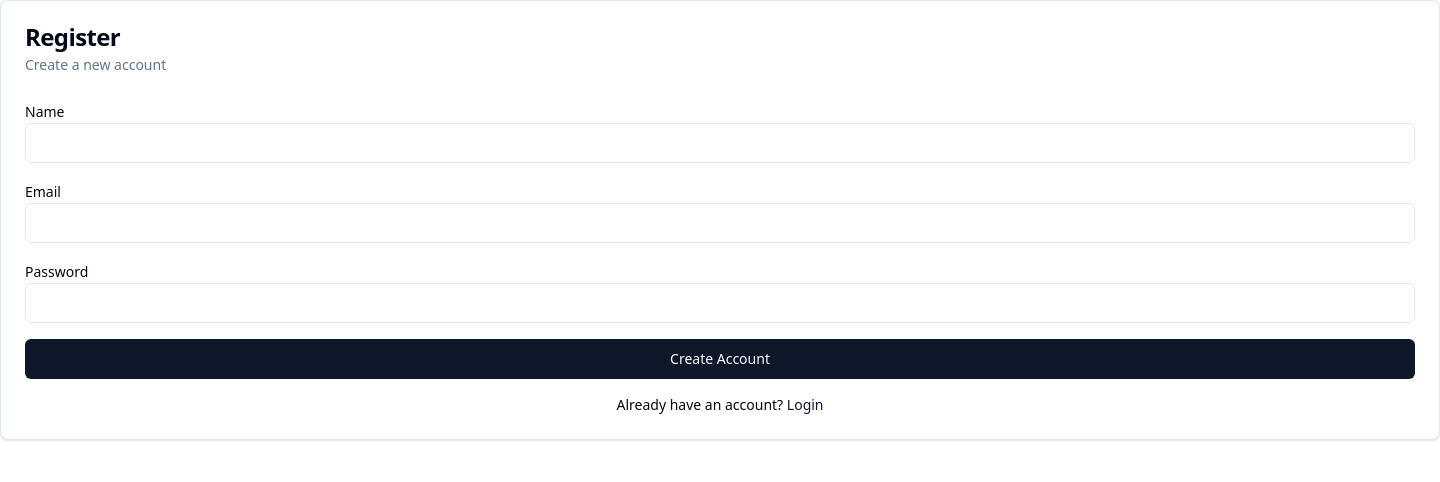
Register Page › should show error for short password
This screenshot has width=1440, height=482.
Type "Test" into the field labelled "Name".
click(720, 143); type("Test")  # box [25, 123, 1415, 163]
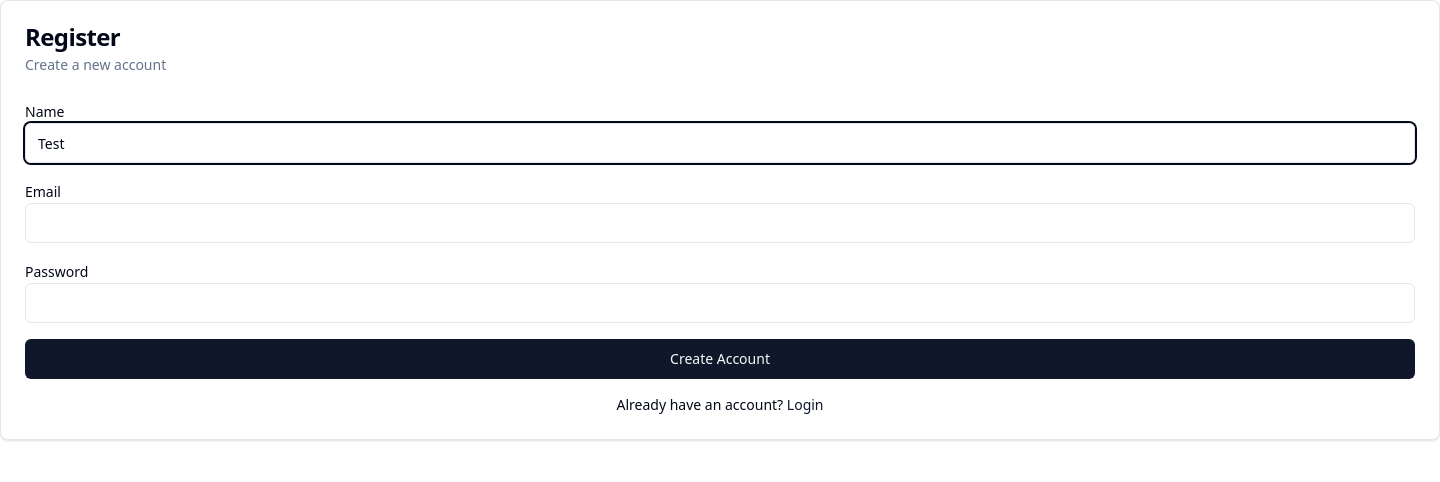
Type "test@test.com" into the field labelled "Email".
click(720, 223); type("test@test.com")  # box [25, 203, 1415, 243]
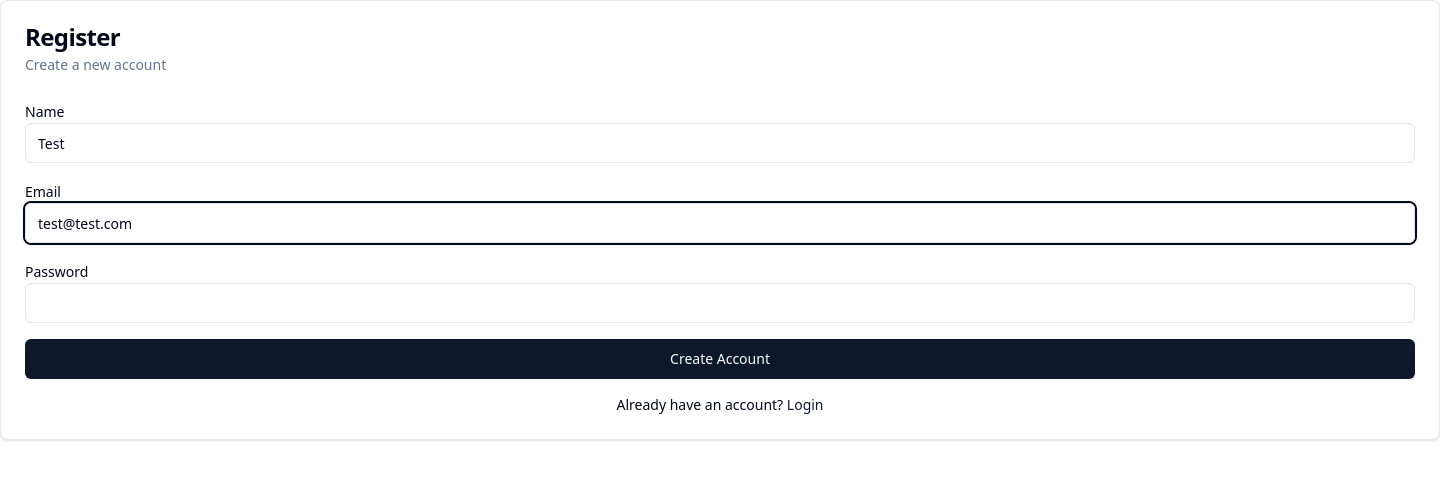
Type "123" into the password field labelled "Password".
click(720, 303); type("123")  # box [25, 283, 1415, 323]
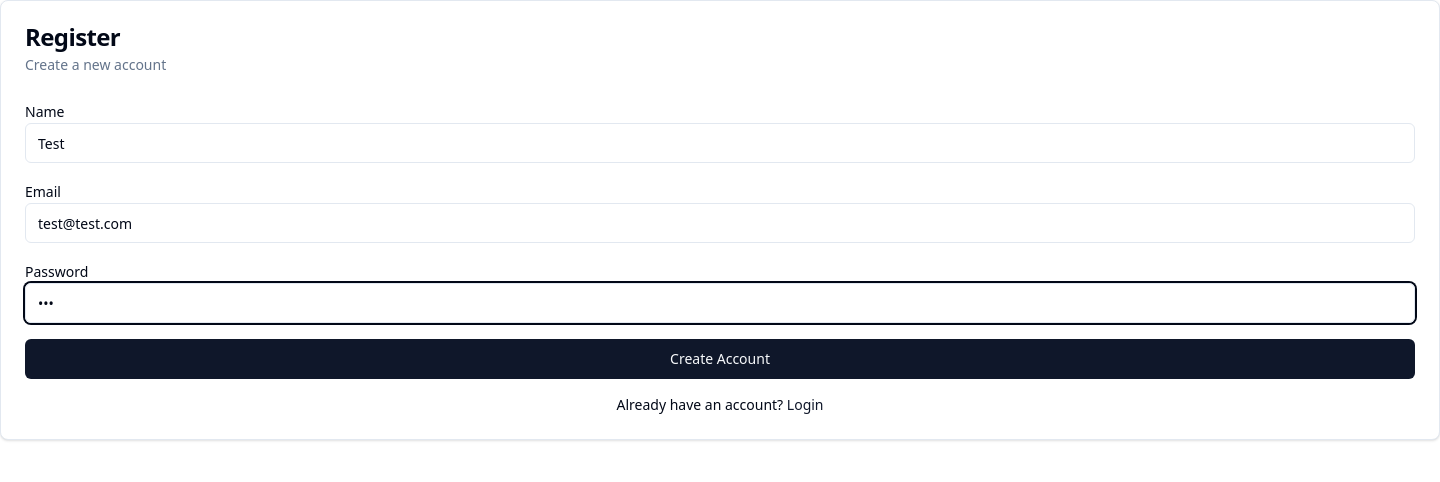
Click the button "Create Account".
click(720, 359)  # box [25, 339, 1415, 379]
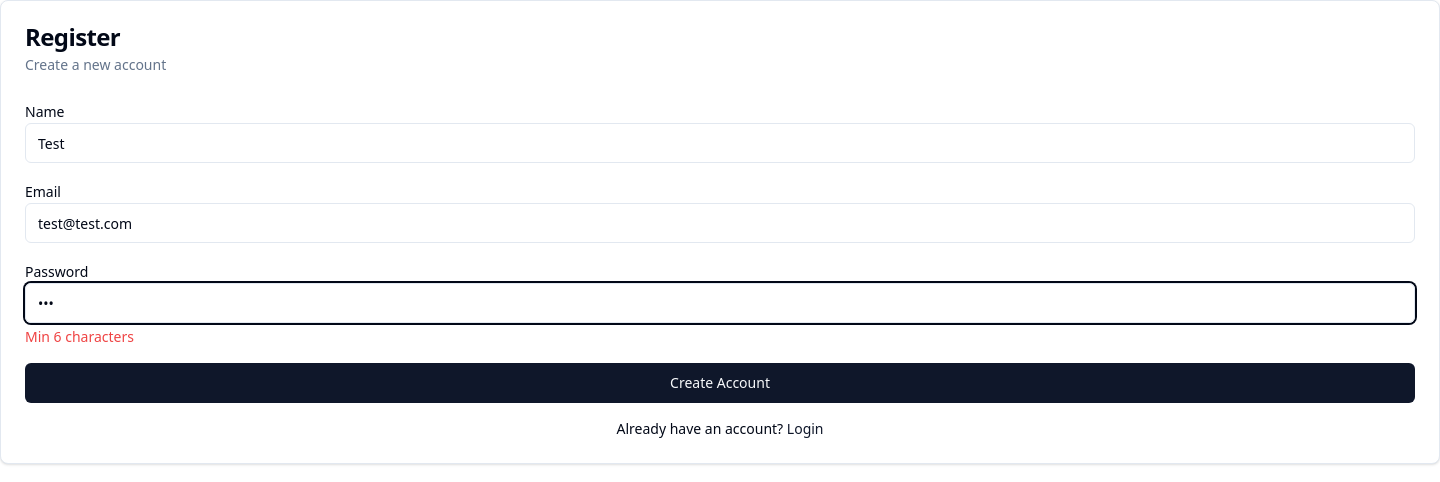
Result: the text "Min 6 characters" is shown at [25, 327, 134, 346]
